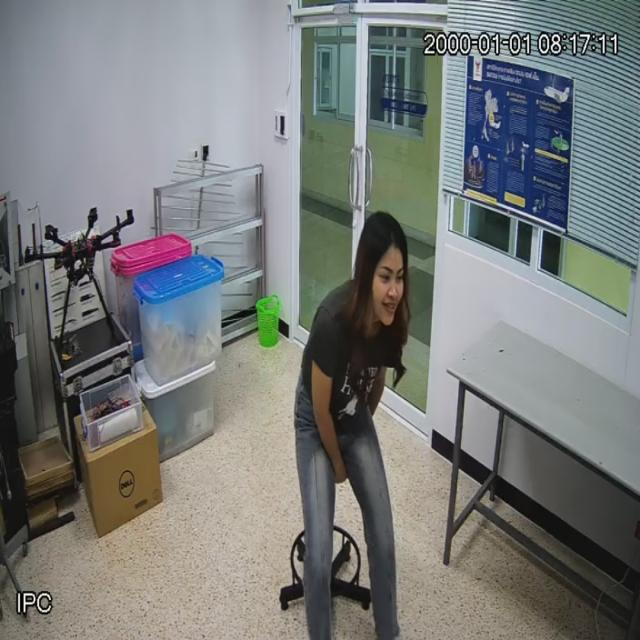normal: (295, 212, 410, 640)
